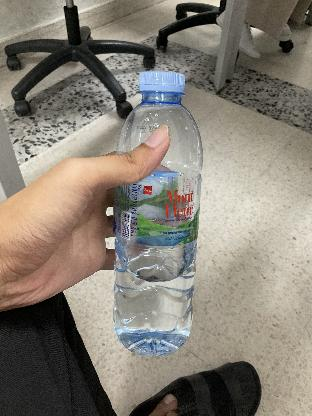Plastic Bottle: (115, 70, 203, 358)
